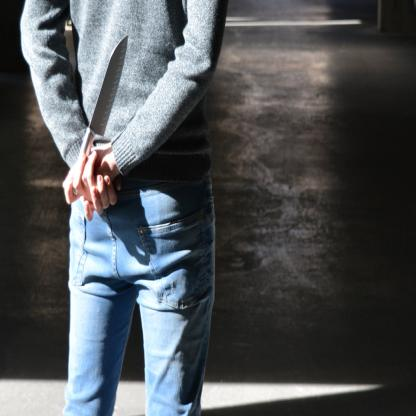knife: (69, 28, 131, 200)
